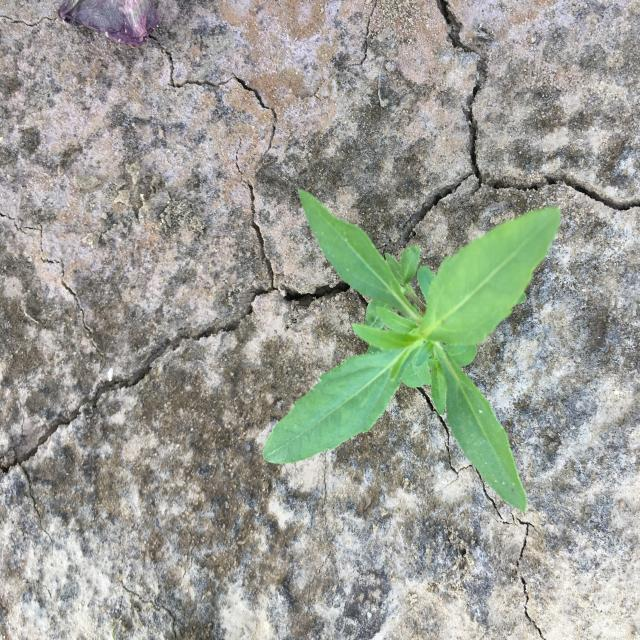Eclipta: (263, 188, 561, 514)
